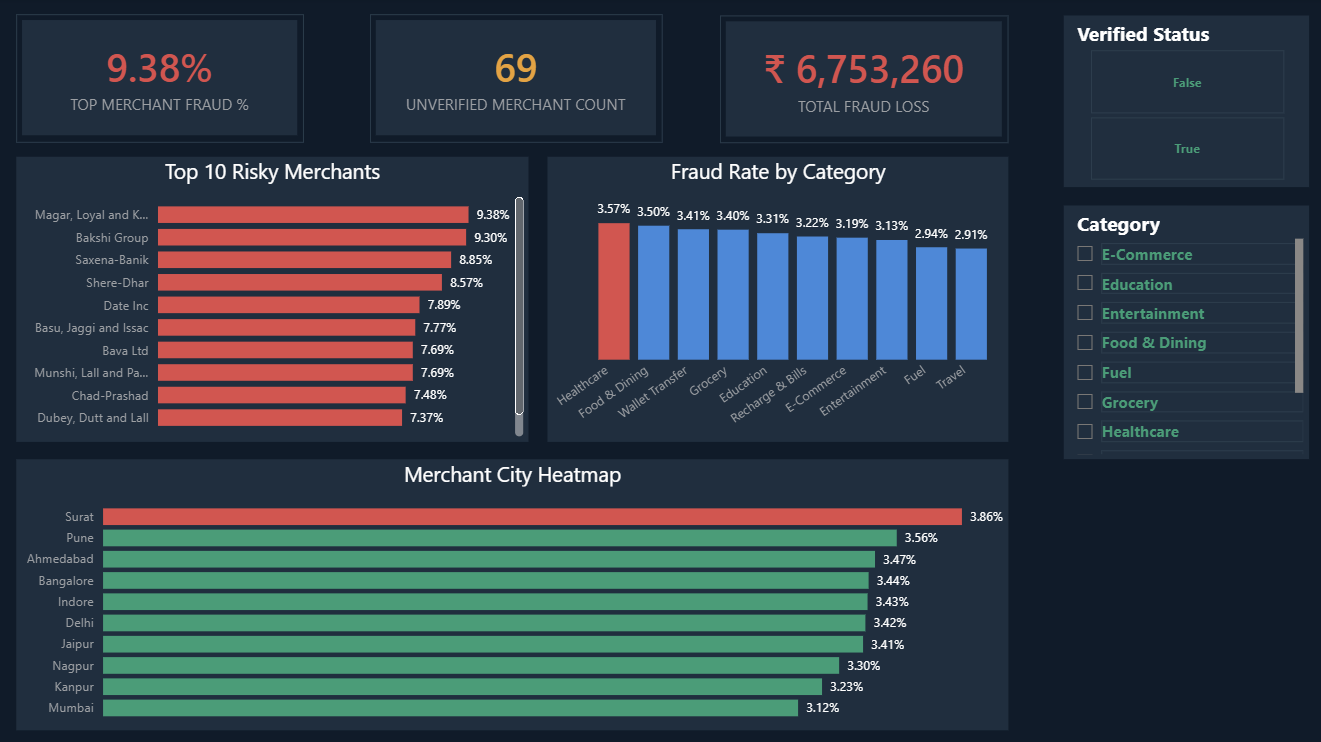

The page's visual inventory and layout, read from the dashboard file:
{"tool":"powerbi","page":{"name":"MERCHANT RISK ANALYSIS","canvas":[1280,720],"ordinal":1},"visuals":[{"type":"cardVisual","fields":{"Data":["Mesures.Top Merchant Fraud %"]},"box":[16.2,16.2,277.5,123.8],"z":0},{"type":"cardVisual","fields":{"Data":["Mesures.Unverified Merchant Count"]},"box":[357.5,16.2,282.5,123.8],"z":1000},{"type":"cardVisual","fields":{"Data":["Mesures.Total Fraud Loss Display"]},"box":[694.9,16.9,278.7,123.1],"z":2000},{"type":"clusteredBarChart","title":"Top 10 Risky Merchants","fields":{"Category":["Merchants.merchant_name"],"Y":["Mesures.Fraud Rate %"]},"box":[15.7,153.2,494.6,275.1],"z":3000},{"type":"clusteredColumnChart","title":"Fraud Rate by Category","fields":{"Category":["Merchants.category"],"Y":["Mesures.Fraud Rate %"]},"box":[528.4,153.2,445.2,275.1],"z":4000},{"type":"clusteredBarChart","title":" Merchant City Heatmap","fields":{"Category":["Merchants.merchant_city"],"Y":["Mesures.Fraud Rate %"]},"box":[15.7,445.2,957.9,261.8],"z":5000},{"type":"slicer","fields":{"Values":["Merchants.category"]},"box":[1026.7,200.3,236.5,244.9],"z":6000},{"type":"slicer","fields":{"Values":["Merchants.is_verified"]},"box":[1026.7,16.9,236.5,165.3],"z":7000}]}

Visuals, with their boxes in screenshot pixels (x1, y1, x2, y2), scaled from the page's 1280x720 canvas onto the 1321x742 screenshot:
cardVisual - Mesures.Top Merchant Fraud %: BBox(17, 17, 303, 144)
cardVisual - Mesures.Unverified Merchant Count: BBox(369, 17, 660, 144)
cardVisual - Mesures.Total Fraud Loss Display: BBox(717, 17, 1005, 144)
"Top 10 Risky Merchants" clusteredBarChart: BBox(16, 158, 527, 441)
"Fraud Rate by Category" clusteredColumnChart: BBox(545, 158, 1005, 441)
" Merchant City Heatmap" clusteredBarChart: BBox(16, 459, 1005, 729)
slicer - Merchants.category: BBox(1060, 206, 1304, 459)
slicer - Merchants.is_verified: BBox(1060, 17, 1304, 188)
